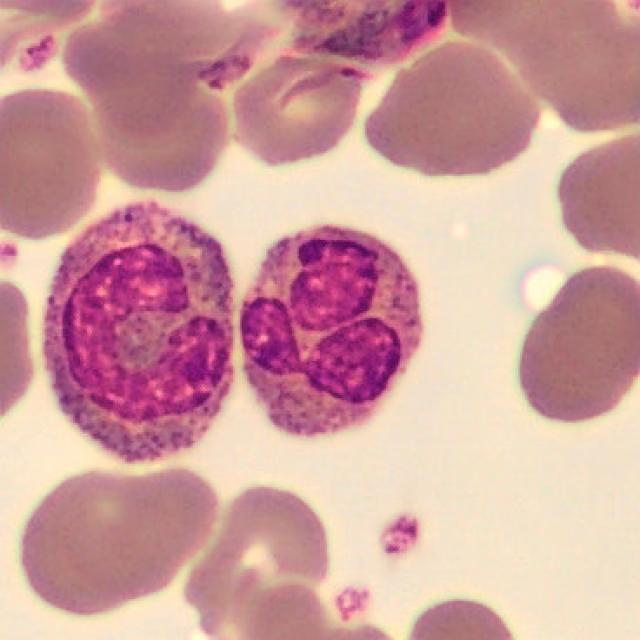Bastonete: (43, 204, 233, 459)
Neutrofilo segmentado: (242, 228, 423, 439)
